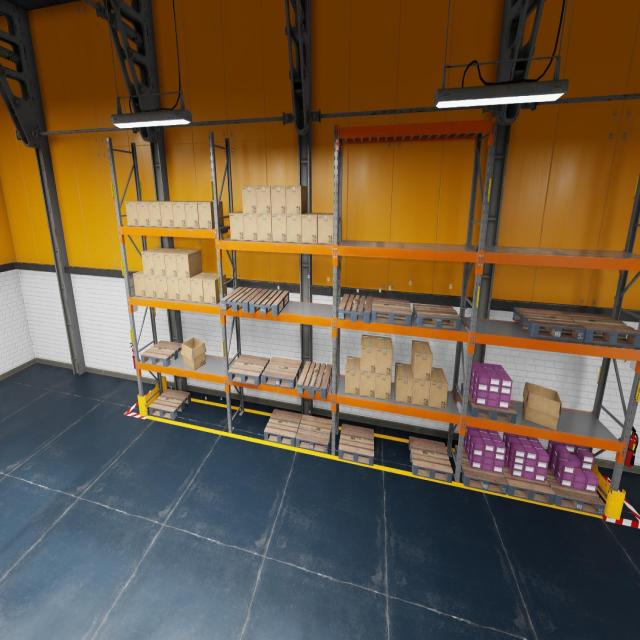box: (523, 382, 561, 430), (411, 340, 432, 381), (181, 338, 206, 370), (429, 368, 448, 410), (411, 364, 430, 406), (394, 362, 413, 403), (202, 273, 227, 304), (176, 249, 202, 278), (190, 272, 213, 303), (198, 201, 224, 228), (184, 201, 210, 228), (164, 249, 188, 277), (152, 248, 176, 276), (141, 248, 165, 275), (376, 336, 392, 375), (172, 201, 195, 227), (345, 356, 360, 395), (286, 185, 306, 214), (361, 335, 376, 373), (302, 213, 321, 243), (160, 201, 181, 227), (148, 201, 168, 226), (318, 212, 333, 244), (271, 214, 287, 242), (271, 185, 286, 214), (256, 185, 271, 214), (286, 215, 302, 242), (136, 201, 153, 226), (229, 212, 244, 240), (375, 374, 391, 400), (257, 214, 272, 241), (243, 214, 258, 241), (360, 372, 375, 398), (242, 186, 256, 213), (125, 201, 140, 226), (133, 270, 146, 297), (178, 277, 192, 301), (166, 277, 180, 300), (155, 276, 168, 298), (144, 275, 157, 297)
pallets: (546, 466, 605, 516), (560, 311, 640, 347), (454, 445, 508, 495), (512, 308, 585, 342), (503, 461, 555, 505), (461, 383, 517, 423), (408, 437, 453, 482), (338, 424, 374, 466), (264, 409, 302, 446), (296, 414, 331, 454), (228, 354, 269, 386), (148, 388, 190, 419), (297, 361, 332, 398), (262, 356, 302, 388), (412, 304, 461, 330), (371, 297, 412, 326), (141, 340, 181, 367), (249, 289, 289, 316), (221, 287, 262, 312), (338, 294, 372, 323)
